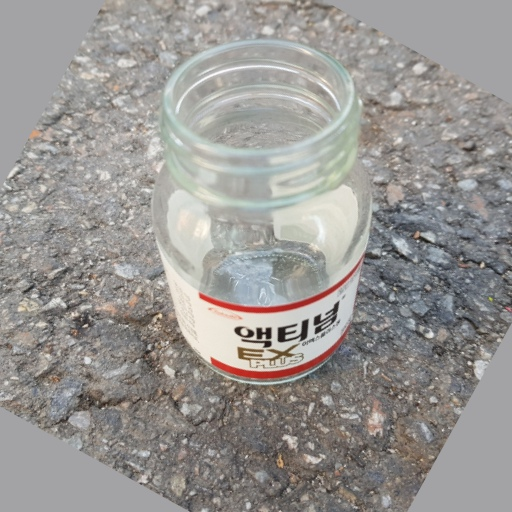Glass_5: (147, 34, 373, 387)
